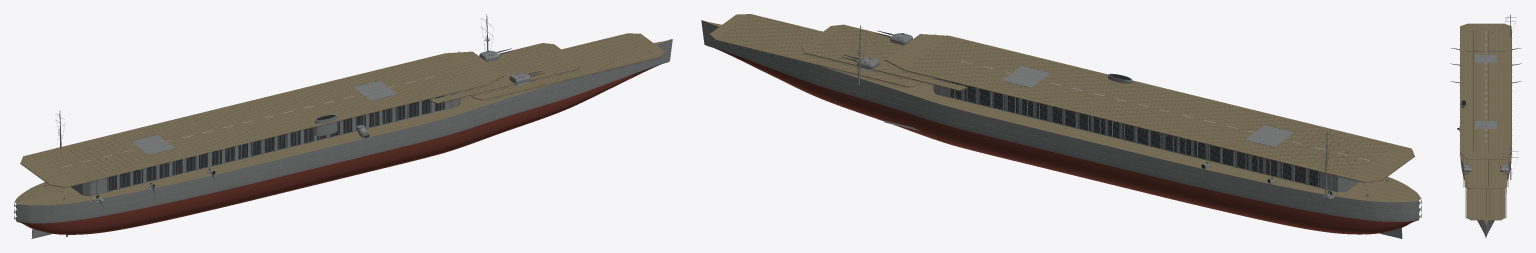
The model's file is akagi_cv.glb.
The picture shows the model from 3 angles, left to right: view 1: azimuth 30°, elevation 25°; view 2: azimuth 150°, elevation 25°; view 3: azimuth 270°, elevation 25°; orthographic projection. The views are drawn at different scales.
Visible parts, largest first — view 1: Akagi (carrier conversion); view 2: Akagi (carrier conversion); view 3: Akagi (carrier conversion).
Boxes of the visible parts, x1,y1,x2,y2 form: Akagi (carrier conversion): [14, 14, 672, 238]; Akagi (carrier conversion): [701, 14, 1421, 238]; Akagi (carrier conversion): [1450, 14, 1521, 237].
Size of the model in its own units: 261 by 39.26 by 39.99.
8 materials, 7 textured.
